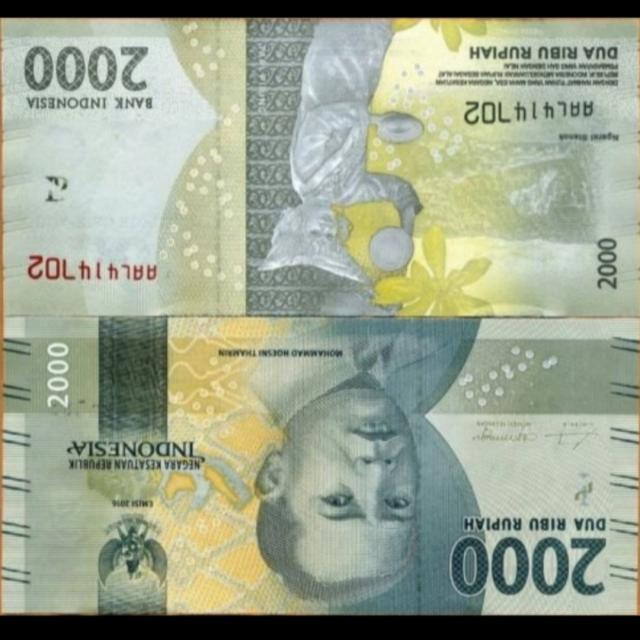dua ribu rupiah: (0, 17, 640, 316), (2, 314, 638, 614)
